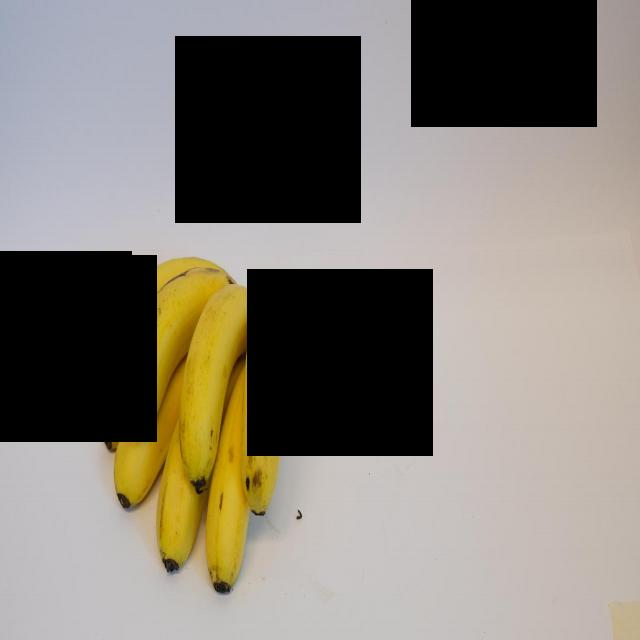banana: (126, 262, 240, 444), (177, 270, 256, 486), (204, 352, 264, 613), (112, 355, 192, 532), (110, 254, 221, 368), (241, 288, 293, 516)
